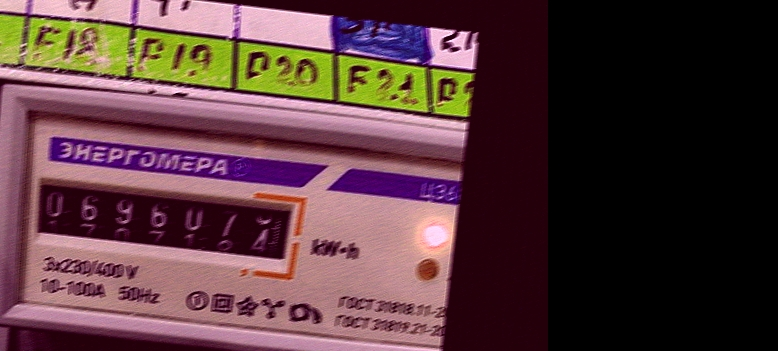0: (41, 188, 65, 220), (182, 202, 204, 234)
4: (247, 226, 269, 256)
6: (75, 191, 101, 224), (147, 200, 169, 230)
7: (216, 207, 237, 239)
9: (112, 197, 133, 228)
screen: (14, 159, 307, 281)
